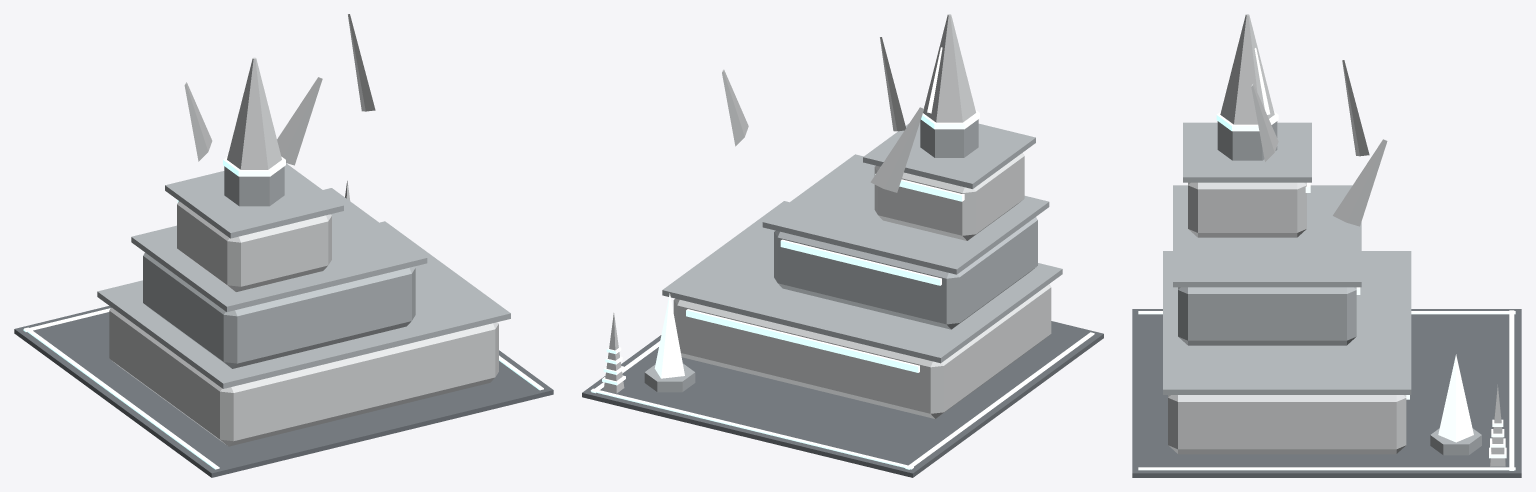
The model's file is zone_low_6_t4.glb.
3 renders of one model, left to right at view 1: azimuth 30°, elevation 25°; view 2: azimuth 150°, elevation 25°; view 3: azimuth 270°, elevation 25°, orthographic. The views are drawn at different scales.
Visible parts, largest first — view 1: zone_low_6_t4, detail; view 2: zone_low_6_t4, detail; view 3: zone_low_6_t4, detail.
Part boxes in pixels (left/top/right/bottom): zone_low_6_t4: left=14, top=14, right=553, bottom=477; detail: left=23, top=180, right=543, bottom=469; zone_low_6_t4: left=582, top=14, right=1103, bottom=477; detail: left=590, top=313, right=1094, bottom=469; zone_low_6_t4: left=1132, top=14, right=1521, bottom=477; detail: left=1138, top=310, right=1515, bottom=470.
Bounding box in the file's own units: 19.6 × 19.3 × 19.6.
